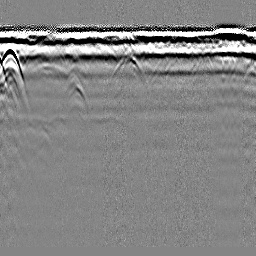cavity: (112, 49, 146, 78)
